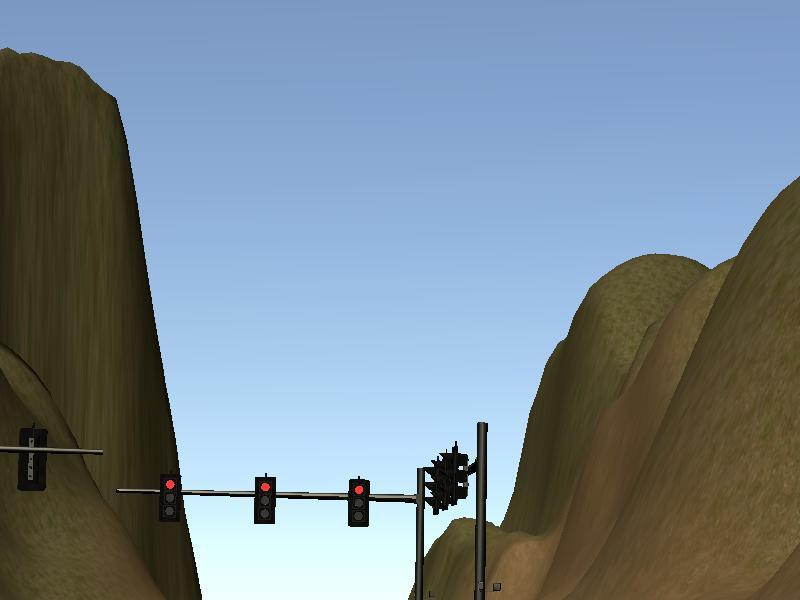Red: (158, 472, 179, 520), (348, 479, 369, 527), (254, 476, 275, 524)
